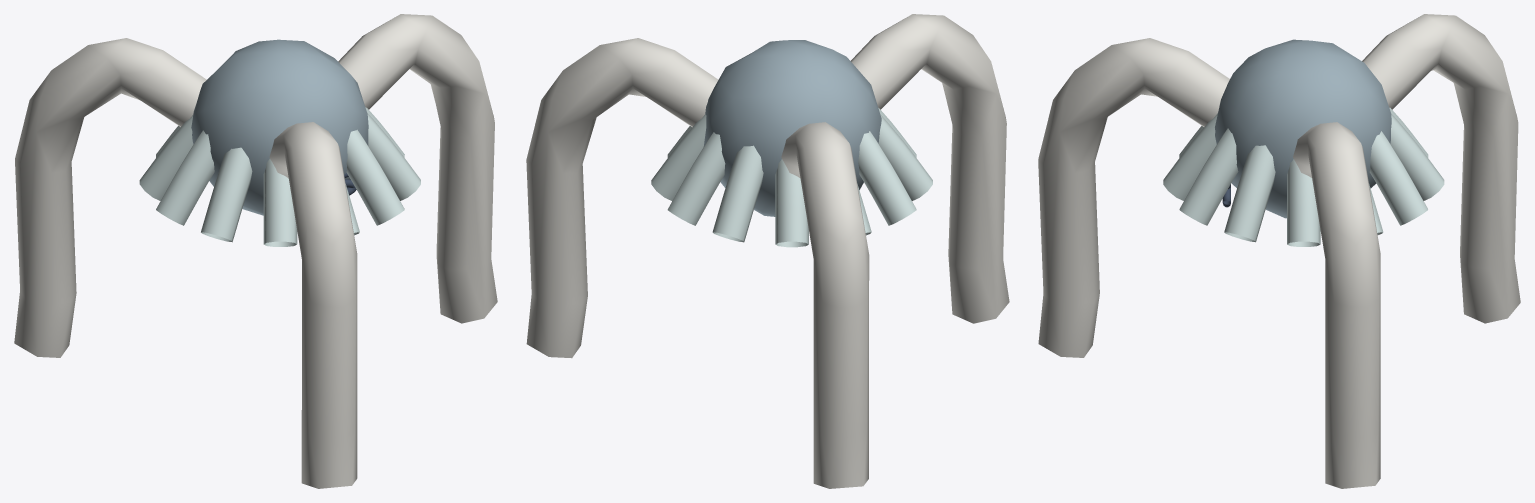
The model's file is bio_tripod_bell_07_far.glb.
3 views of the same model, side by side, from view 1: azimuth 30°, elevation 25°; view 2: azimuth 150°, elevation 25°; view 3: azimuth 270°, elevation 25° (orthographic).
Visible parts, largest first — view 1: Arched tripod.001, Arched tripod, Arched tripod.002, Hanging bell core, Flared rib.007, Flared rib.010, Flared rib.006, Flared rib.008, Flared rib.011, Flared rib.005; view 2: Arched tripod, Arched tripod.002, Arched tripod.001, Hanging bell core, Flared rib.003, Flared rib.006, Flared rib.002, Flared rib.004, Flared rib.001, Flared rib.007; view 3: Arched tripod.002, Arched tripod.001, Arched tripod, Hanging bell core, Flared rib.011, Flared rib.010, Flared rib.002, Flared rib, Flared rib.003, Flared rib.009.
Boxes of the visible parts, <box> form: Arched tripod.001: <box>14,38,206,357</box>; Arched tripod: <box>338,14,497,323</box>; Arched tripod.002: <box>269,122,357,488</box>; Hanging bell core: <box>191,39,368,215</box>; Flared rib.007: <box>201,147,252,242</box>; Flared rib.010: <box>346,129,404,225</box>; Flared rib.006: <box>156,130,214,225</box>; Flared rib.008: <box>263,159,297,246</box>; Flared rib.011: <box>367,112,420,200</box>; Flared rib.005: <box>139,115,193,200</box>; Arched tripod: <box>526,38,718,358</box>; Arched tripod.002: <box>851,14,1009,323</box>; Arched tripod.001: <box>781,122,869,488</box>; Hanging bell core: <box>703,40,881,216</box>; Flared rib.003: <box>712,145,763,242</box>; Flared rib.006: <box>858,131,916,225</box>; Flared rib.002: <box>667,132,725,225</box>; Flared rib.004: <box>775,159,808,247</box>; Flared rib.001: <box>651,114,706,200</box>; Flared rib.007: <box>878,114,932,200</box>; Arched tripod.002: <box>1038,38,1229,357</box>; Arched tripod.001: <box>1362,14,1520,323</box>; Arched tripod: <box>1293,122,1380,488</box>; Hanging bell core: <box>1215,39,1391,218</box>; Flared rib.011: <box>1224,145,1275,242</box>; Flared rib.010: <box>1179,128,1238,225</box>; Flared rib.002: <box>1369,131,1427,225</box>; Flared rib: <box>1287,159,1320,246</box>; Flared rib.003: <box>1390,113,1444,200</box>; Flared rib.009: <box>1163,113,1217,200</box>.
Size of the model in its own units: 2.5 by 1.97 by 2.57.
